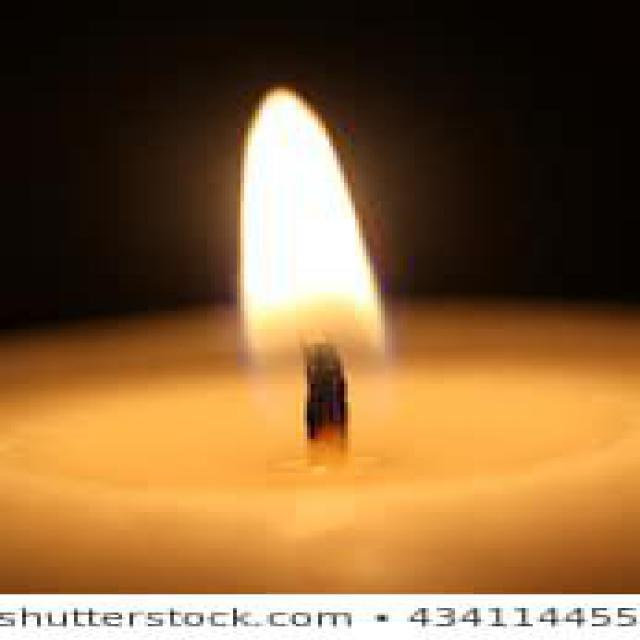Fire: (238, 84, 394, 388)
